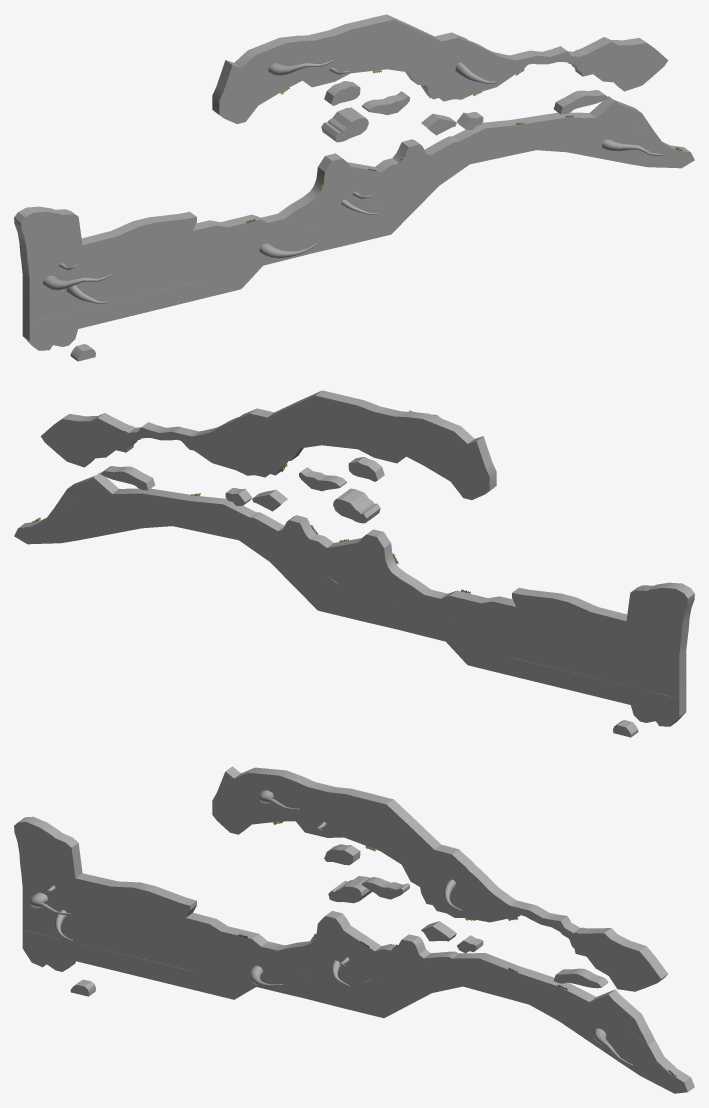
File: Forest_Canopy_01_mesh.fbx
The picture shows the model from 3 angles, top to bottom: view 1: azimuth 30°, elevation 25°; view 2: azimuth 150°, elevation 25°; view 3: azimuth 330°, elevation 25°; orthographic projection.
Visible parts, largest first — view 1: polySurface40; view 2: polySurface40; view 3: polySurface40.
Boxes of the visible parts, left/top/right/bottom form: polySurface40: left=14, top=14, right=694, bottom=361; polySurface40: left=14, top=390, right=694, bottom=737; polySurface40: left=14, top=766, right=694, bottom=1093.
Size of the model in its own units: 16514 by 6269 by 1345.
